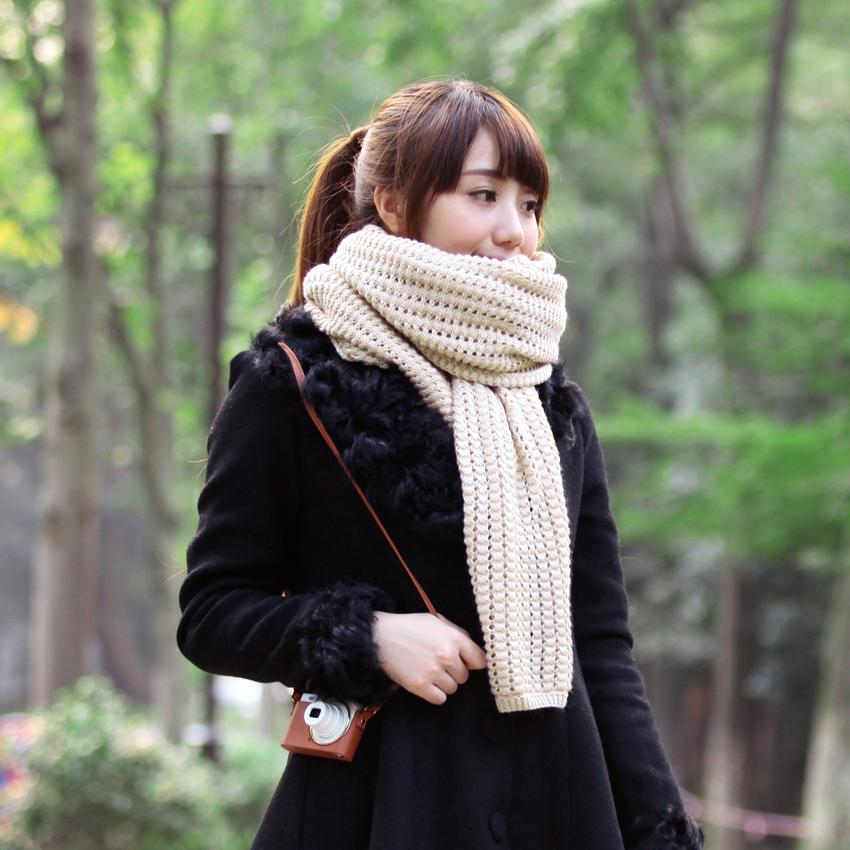WRONG: (411, 161, 557, 307)
